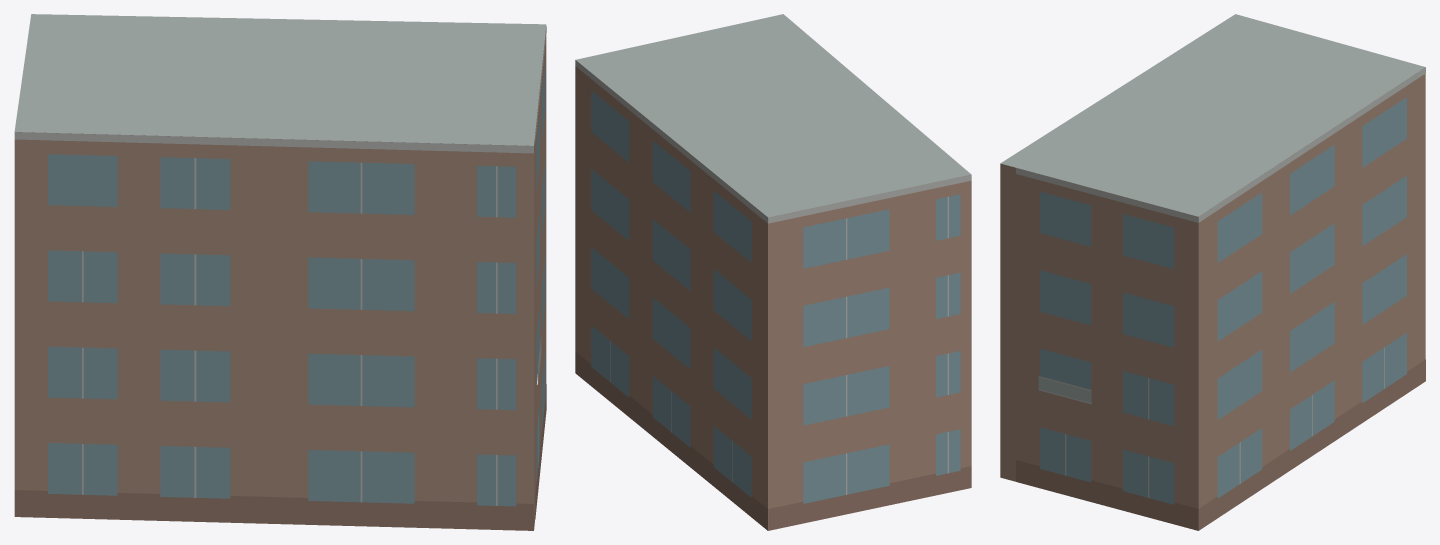
File: survey-upis-32973031.glb
3 views of the same model, side by side, from view 1: azimuth 30°, elevation 25°; view 2: azimuth 150°, elevation 25°; view 3: azimuth 270°, elevation 25° (orthographic). The views are drawn at different scales.
Visible parts, largest first — view 1: survey-upis-32973031.tmp; view 2: survey-upis-32973031.tmp; view 3: survey-upis-32973031.tmp.
Boxes of the visible parts, x1,y1,x2,y2 form: survey-upis-32973031.tmp: (14,14,546,530); survey-upis-32973031.tmp: (575,14,971,530); survey-upis-32973031.tmp: (1000,14,1425,530).
Size of the model in its own units: 17.18 by 12.4 by 15.24.
